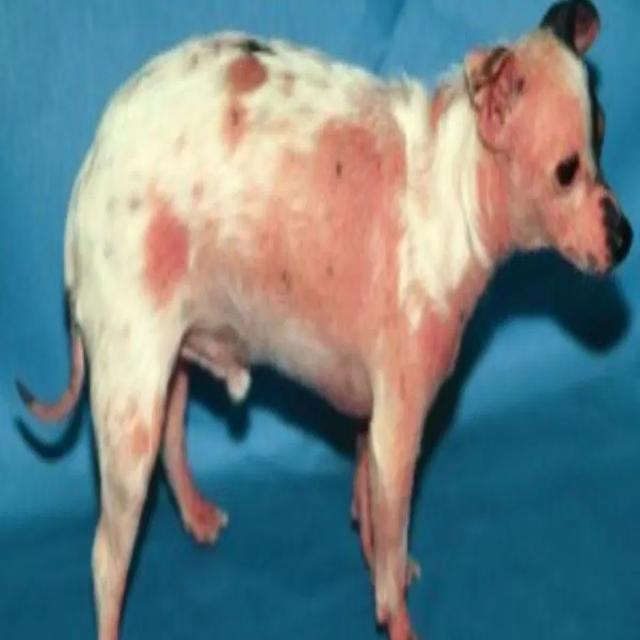mange: (213, 102, 456, 348)
